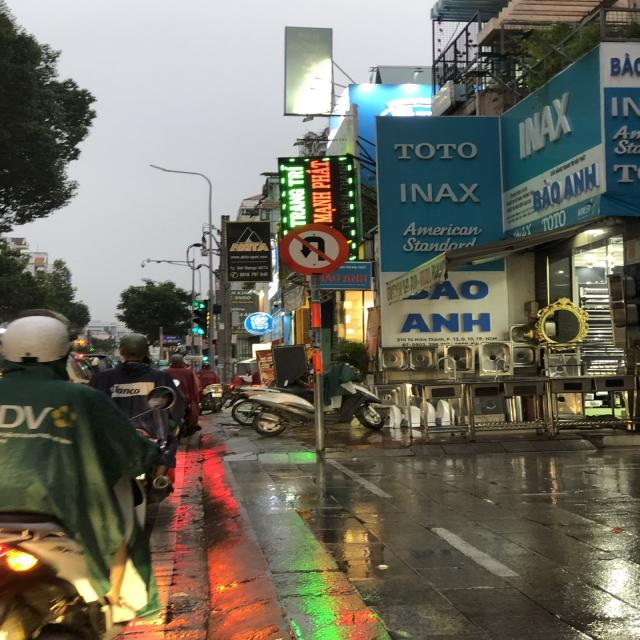Bien bao cam quay dau xe: (277, 222, 353, 277)
